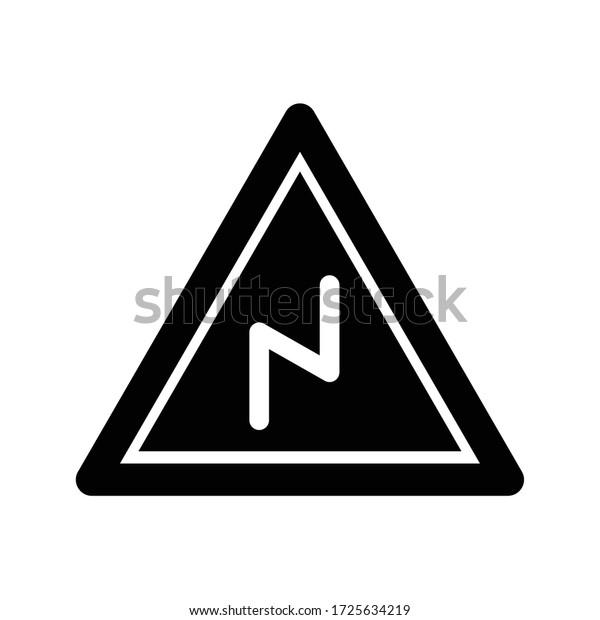Right Reverse Bend: (40, 86, 540, 515)
